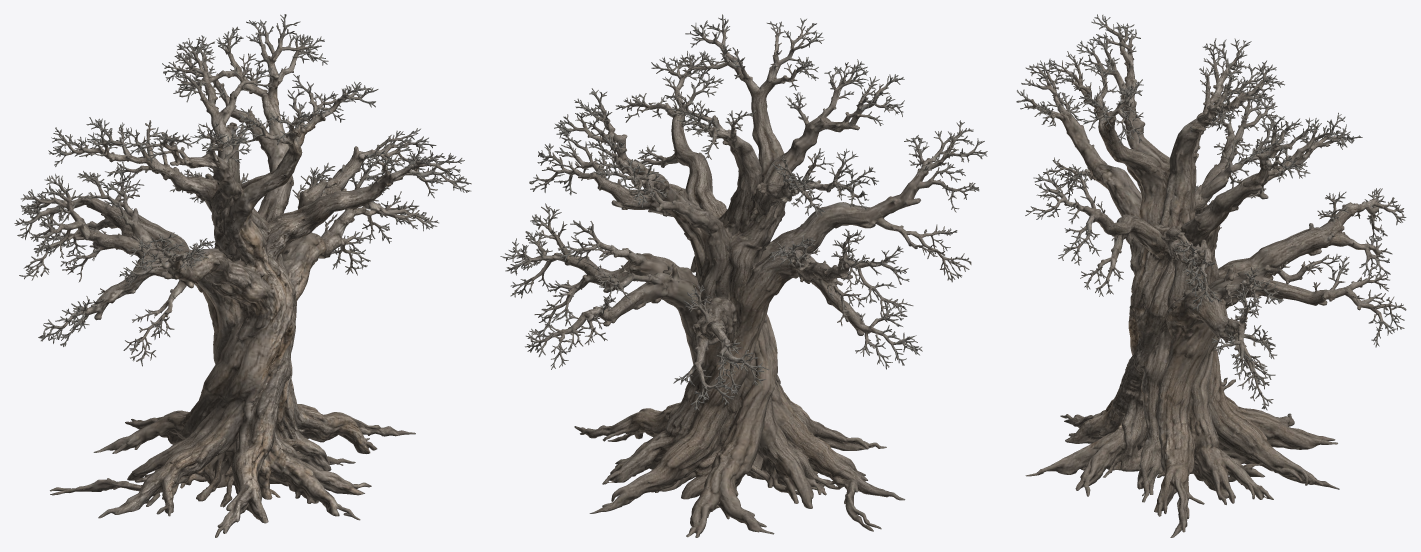
File: tree_sentinel.glb
3 views of the same model, side by side, from view 1: azimuth 30°, elevation 25°; view 2: azimuth 150°, elevation 25°; view 3: azimuth 270°, elevation 25° (orthographic). The views are drawn at different scales.
Visible parts, largest first — view 1: tree_sentinel; view 2: tree_sentinel; view 3: tree_sentinel.
Boxes of the visible parts, x1,y1,x2,y2 form: tree_sentinel: [14, 14, 471, 537]; tree_sentinel: [500, 14, 987, 537]; tree_sentinel: [1016, 14, 1406, 537].
Size of the model in its own units: 189 by 187 by 167.
1 material, 1 textured.
